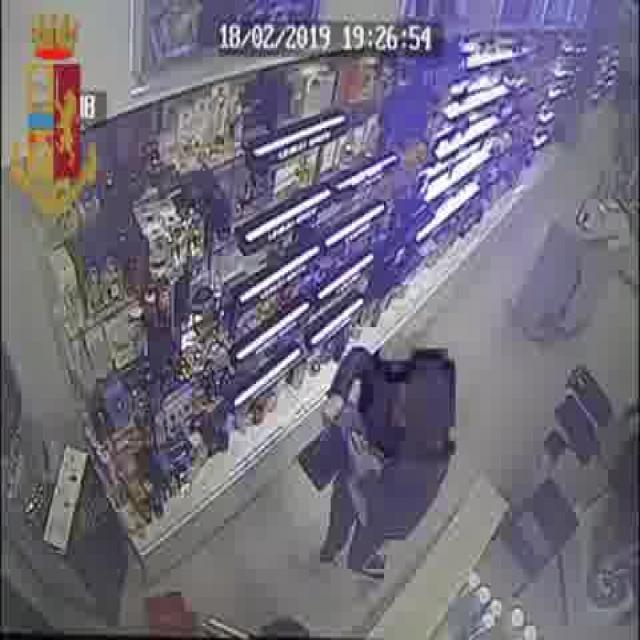Shoplifting: (294, 335, 462, 615)
